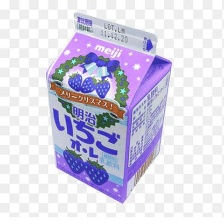carton: (43, 6, 175, 206)
